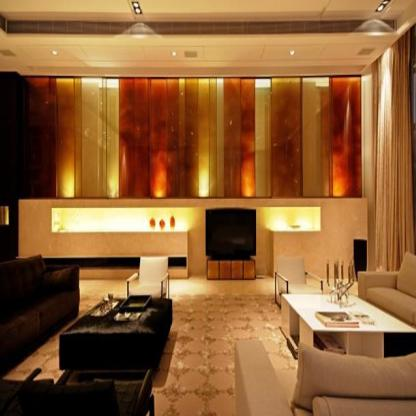other: (61, 214, 184, 231), (148, 150, 172, 196), (236, 150, 257, 199), (331, 160, 356, 197), (260, 216, 312, 229), (58, 162, 76, 197), (196, 162, 211, 197), (106, 168, 118, 200)
